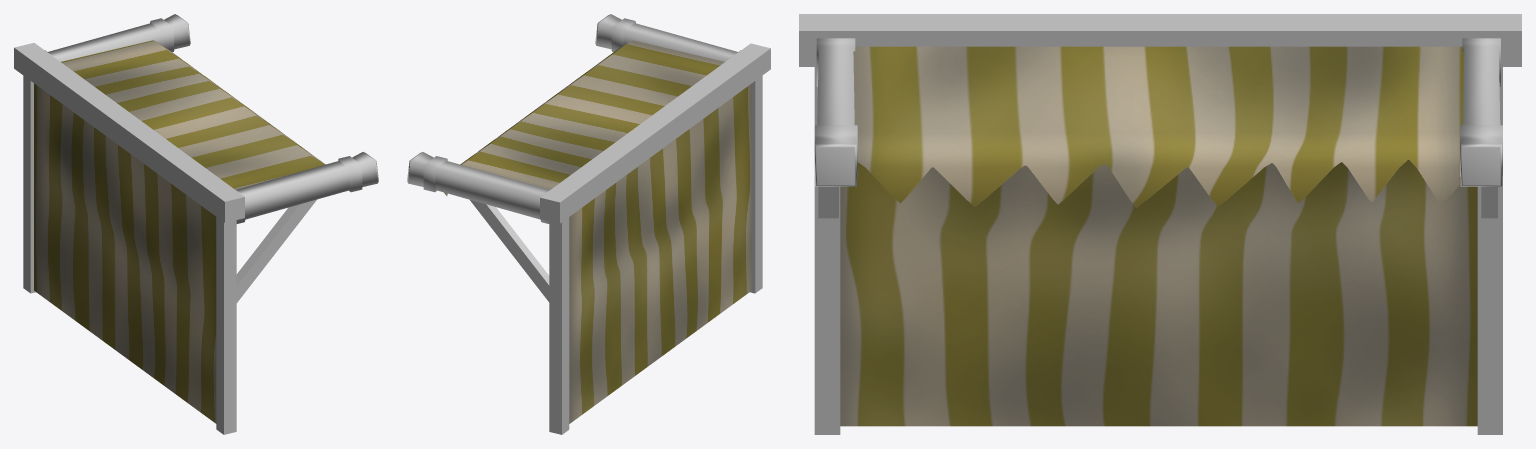
Rendered from M_Stall_Yellow.fbx.
The picture shows the model from 3 angles, left to right: view 1: azimuth 30°, elevation 25°; view 2: azimuth 150°, elevation 25°; view 3: azimuth 270°, elevation 25°; orthographic projection. The views are drawn at different scales.
Visible parts, largest first — view 1: M_Stall_Yellow; view 2: M_Stall_Yellow; view 3: M_Stall_Yellow.
Part boxes in pixels (bbox=[...]): M_Stall_Yellow: bbox=[14, 14, 378, 434]; M_Stall_Yellow: bbox=[407, 14, 770, 434]; M_Stall_Yellow: bbox=[799, 14, 1521, 434].
Size of the model in its own units: 2.99 by 4.25 by 6.83.
